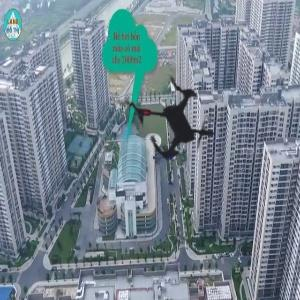drone: (91, 32, 269, 210)
